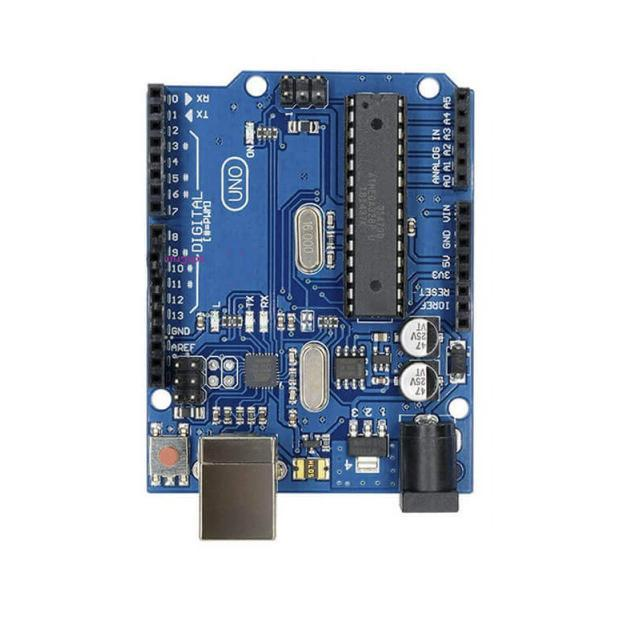Arduino: (122, 46, 502, 560)
